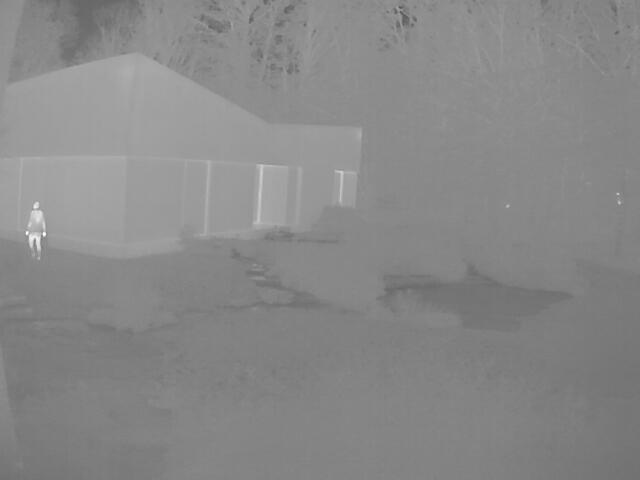person: (24, 202, 48, 260)
